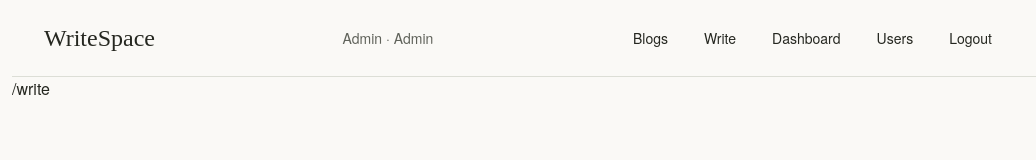
Scenario: Navbar › navigates through the Blogs link only on activation
This screenshot has width=1036, height=160.
Check: the text named "Location" reads "/write", box x1=12 y1=77 x2=50 y2=100
Click the link "Blogs".
click(650, 38)  # box x1=633 y1=28 x2=668 y2=48
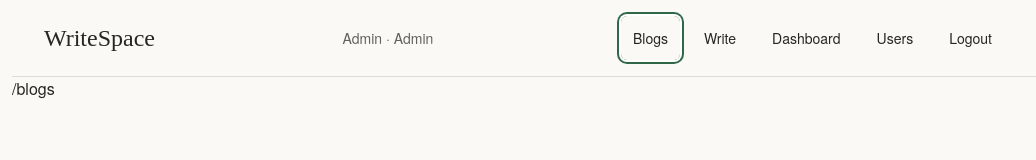
Check: the text named "Location" reads "/blogs", box x1=12 y1=77 x2=55 y2=100
